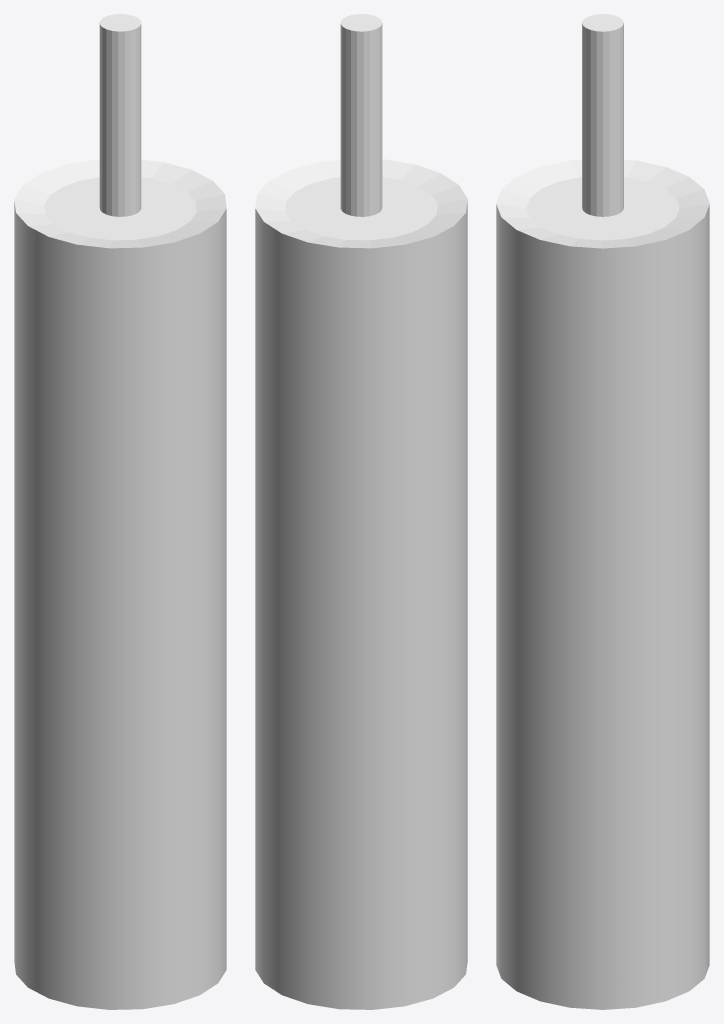
Rendered from ToiletBrushHolder.FBX.
3 views of the same model, side by side, from view 1: azimuth 30°, elevation 25°; view 2: azimuth 150°, elevation 25°; view 3: azimuth 270°, elevation 25° (orthographic).
Parts seen in each view (by area): view 1: Cylinder001; view 2: Cylinder001; view 3: Cylinder001.
Part boxes in pixels (x1,y1,x2,y2): Cylinder001: (14, 14, 226, 1009); Cylinder001: (255, 14, 467, 1009); Cylinder001: (496, 14, 709, 1009).
Size of the model in its own units: 18.12 by 88.16 by 18.12.
1 material, 1 textured.
